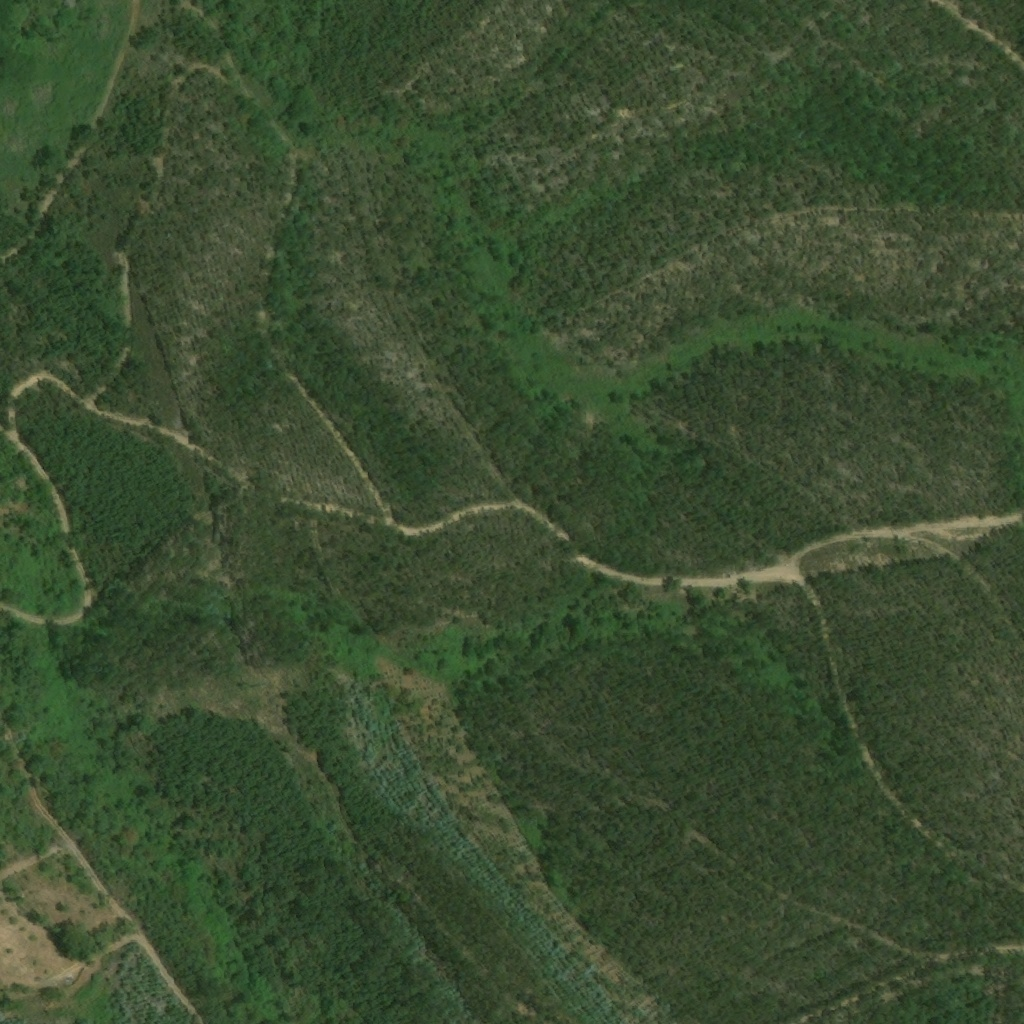4 un-classified: (63, 0, 77, 11)
